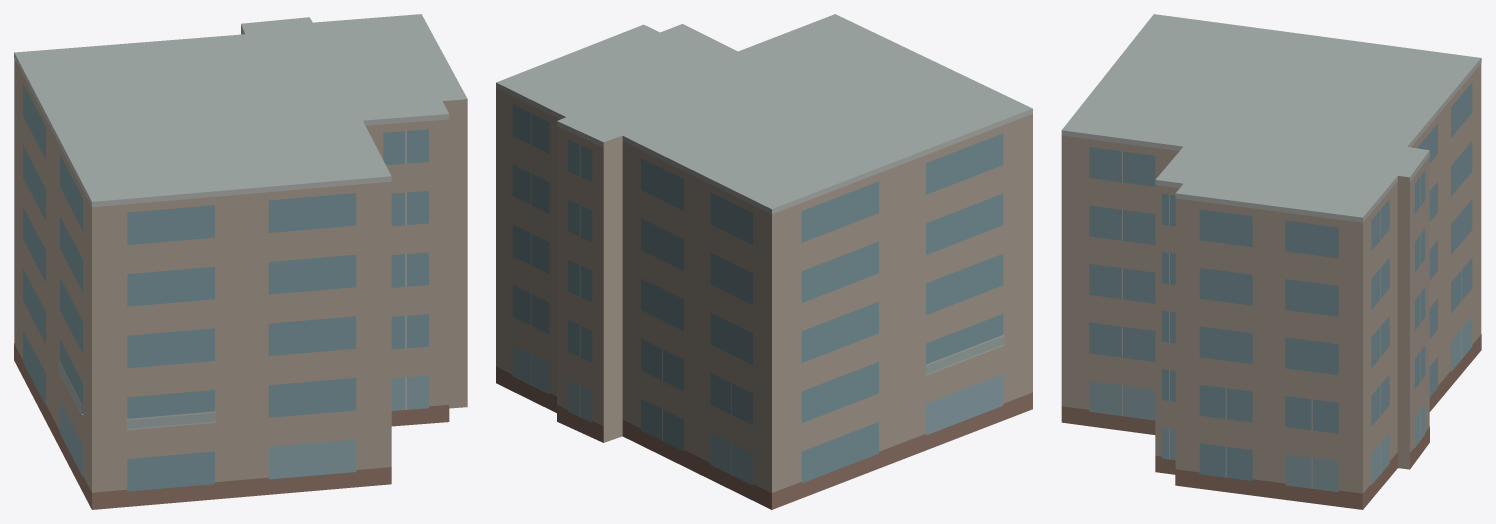
The model's file is survey-upis-32496060.glb.
The picture shows the model from 3 angles, left to right: view 1: azimuth 30°, elevation 25°; view 2: azimuth 150°, elevation 25°; view 3: azimuth 270°, elevation 25°; orthographic projection. The views are drawn at different scales.
Visible parts, largest first — view 1: survey-upis-32496060.tmp; view 2: survey-upis-32496060.tmp; view 3: survey-upis-32496060.tmp.
Boxes of the visible parts, <box> form: survey-upis-32496060.tmp: <box>14,14,467,509</box>; survey-upis-32496060.tmp: <box>496,14,1032,509</box>; survey-upis-32496060.tmp: <box>1061,14,1481,509</box>.
Size of the model in its own units: 20.82 by 13.93 by 18.15.
